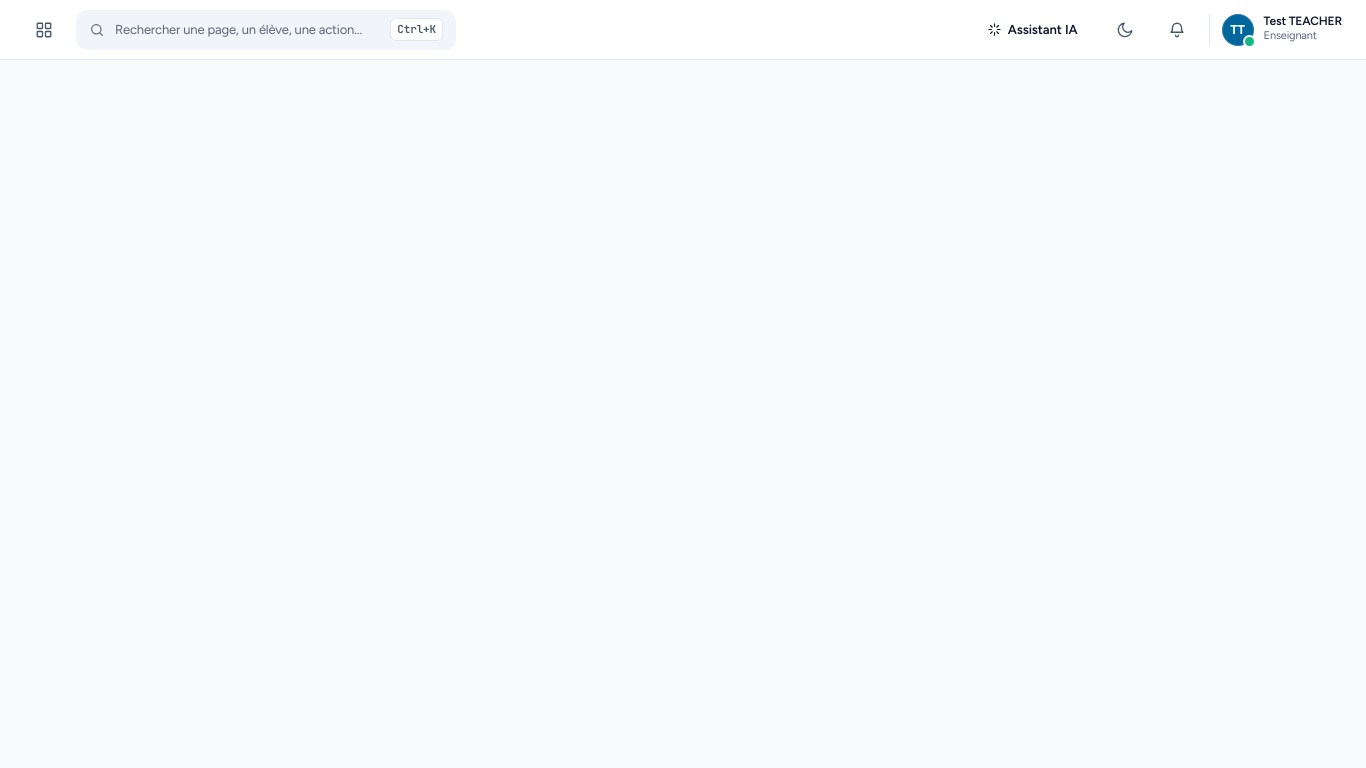
Test: Barre du haut (EduTopBar) › le champ de recherche ouvre la palette de commandes
Step 1. Click the button with aria-label "Ouvrir la palette de commandes" → point(266, 30), box [76,10,456,50]
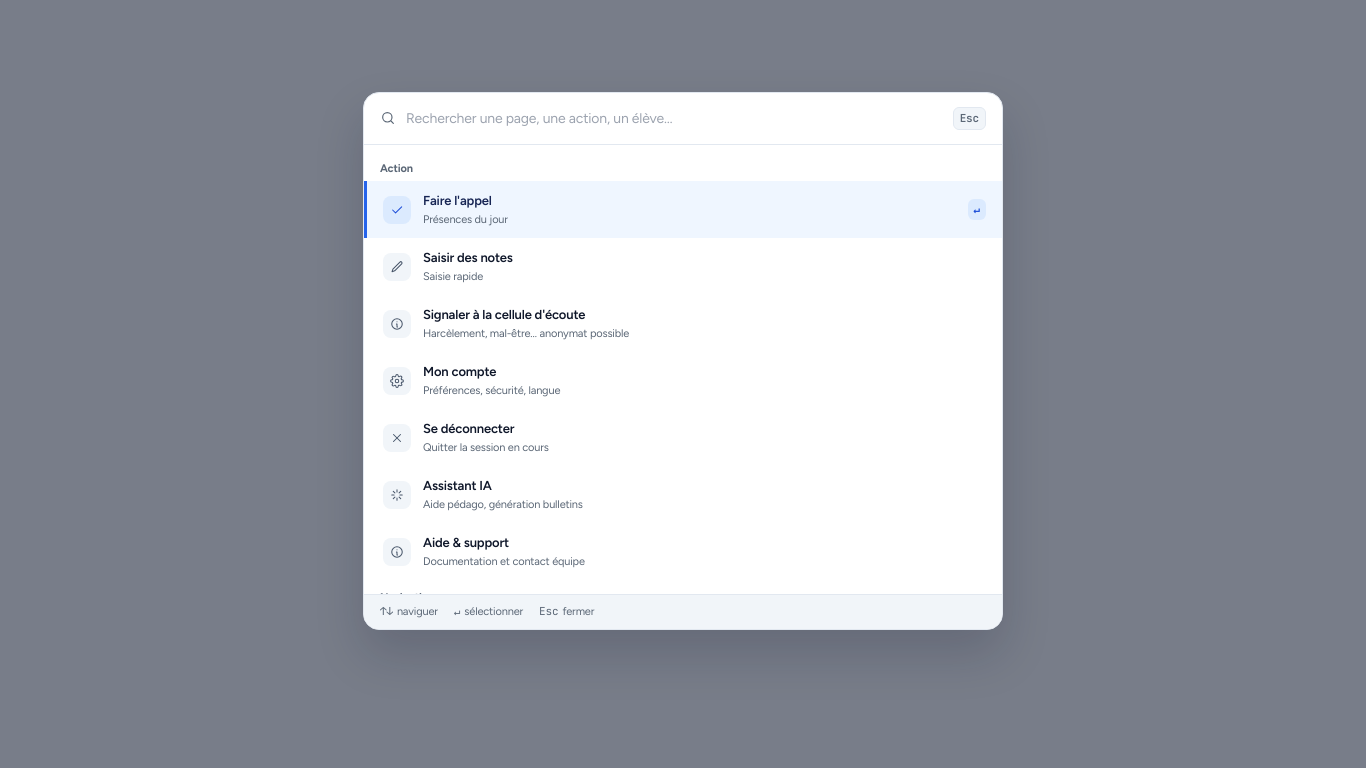
Expected: the dialog named "Palette de commandes" is shown
